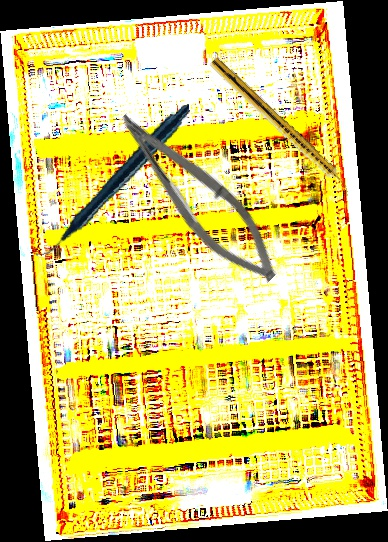Handpiece: (15, 104, 210, 256), (206, 56, 357, 198)
Micro Scissor: (98, 101, 296, 295)
